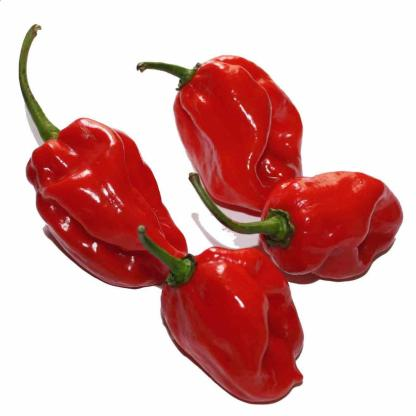--: (13, 7, 196, 299), (125, 52, 316, 218), (140, 226, 308, 408), (183, 170, 416, 290)
